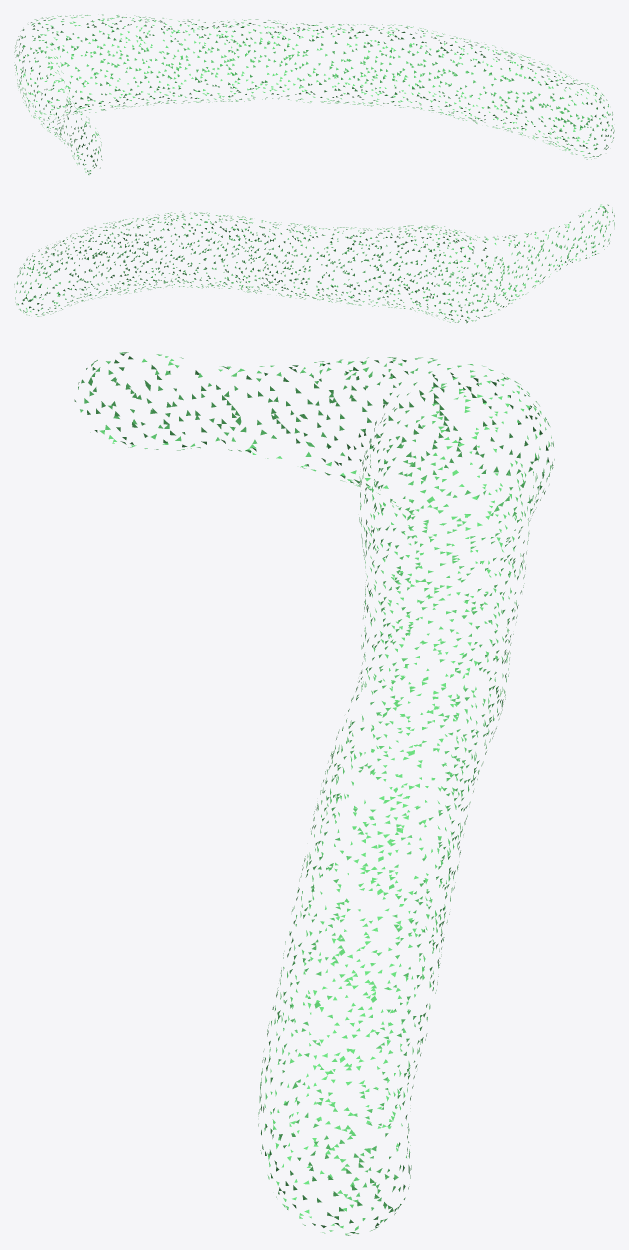
File: morph_019.glb
The picture shows the model from 3 angles, top to bottom: view 1: azimuth 30°, elevation 25°; view 2: azimuth 150°, elevation 25°; view 3: azimuth 270°, elevation 25°; orthographic projection. The views are drawn at different scales.
Bounding box in the file's own units: 146 × 55.06 × 57.29.
